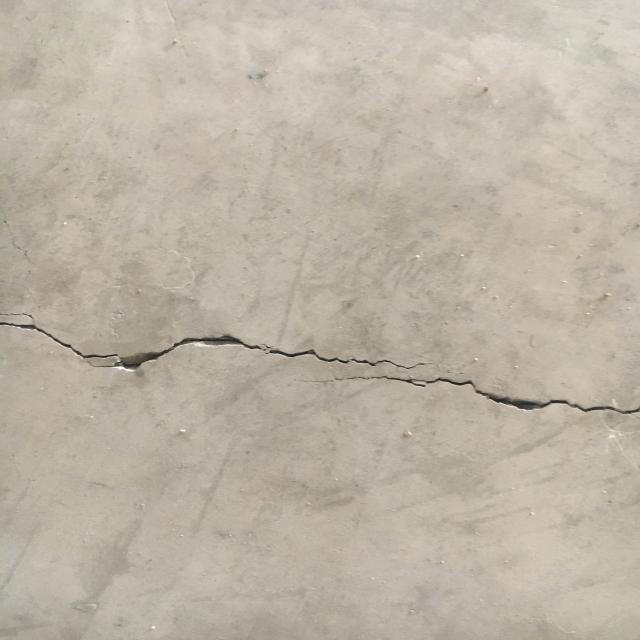Rachadura: (0, 312, 464, 374), (317, 374, 640, 416)
